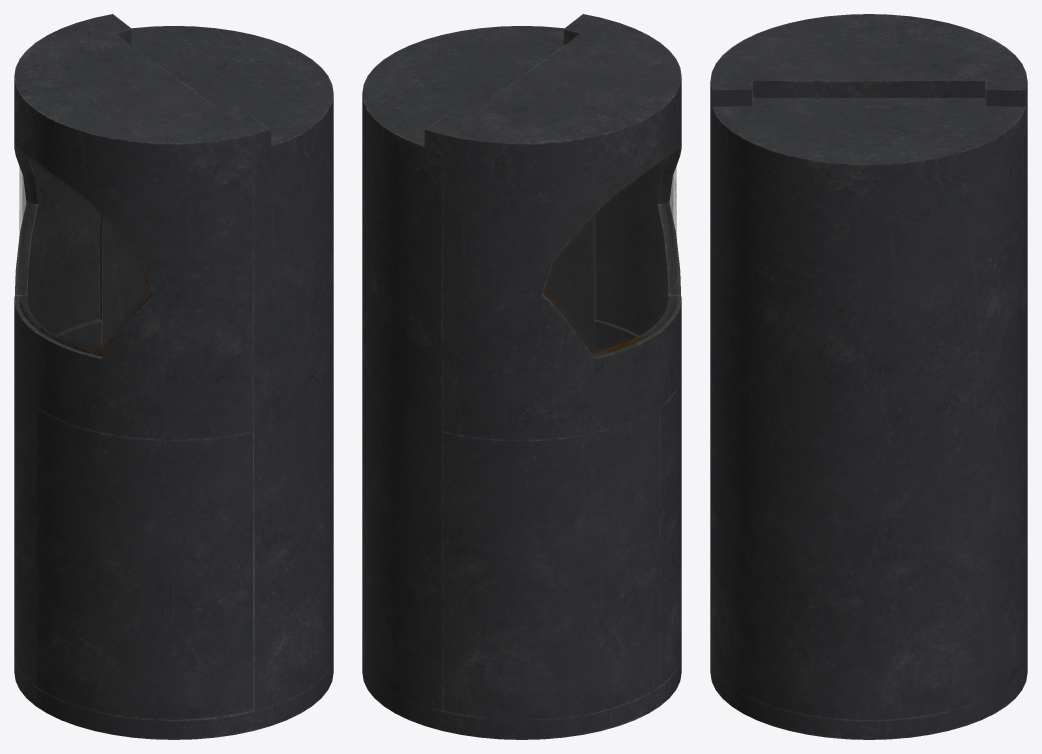
Rendered from Капсулы.glb.
3 views of the same model, side by side, from view 1: azimuth 30°, elevation 25°; view 2: azimuth 150°, elevation 25°; view 3: azimuth 270°, elevation 25° (orthographic).
Visible parts, largest first — view 1: Цилиндр.013, Цилиндр.012, Цилиндр.014, Цилиндр.004, Цилиндр.009; view 2: Цилиндр.013, Цилиндр.012, Цилиндр.009, Цилиндр.004, Цилиндр.014; view 3: Цилиндр.012, Цилиндр.013.
Boxes of the visible parts, x1,y1,x2,y2 form: Цилиндр.013: [14, 14, 271, 440]; Цилиндр.012: [14, 26, 333, 739]; Цилиндр.014: [35, 407, 253, 720]; Цилиндр.004: [19, 149, 152, 356]; Цилиндр.009: [14, 319, 101, 685]; Цилиндр.013: [424, 14, 681, 440]; Цилиндр.012: [362, 26, 681, 739]; Цилиндр.009: [442, 407, 660, 720]; Цилиндр.004: [543, 149, 676, 356]; Цилиндр.014: [594, 319, 681, 685]; Цилиндр.012: [710, 98, 1027, 739]; Цилиндр.013: [710, 14, 1027, 106].
Size of the model in its own units: 0.9994 by 2.06 by 0.9994.
2 materials, 2 textured.
